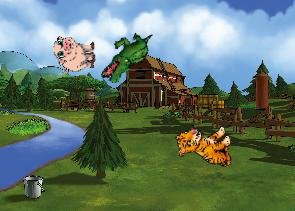crocodile: (99, 22, 154, 91)
pig: (53, 34, 96, 73)
tiger: (174, 120, 236, 175)
